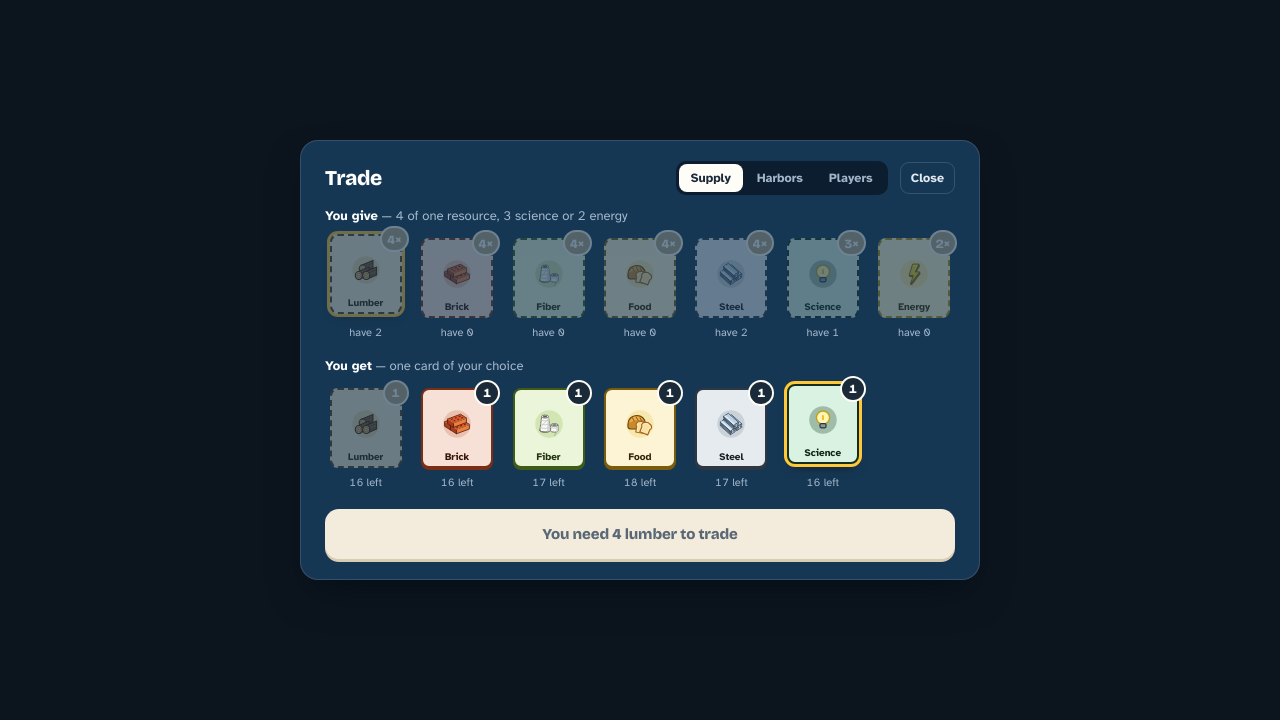
TradeModal offering to several players › starts with everyone, in the order their turns come after yours
The width and height of the screenshot is (1280, 720).
Click the tab "Players".
click(851, 178)  # box [817,164,885,192]
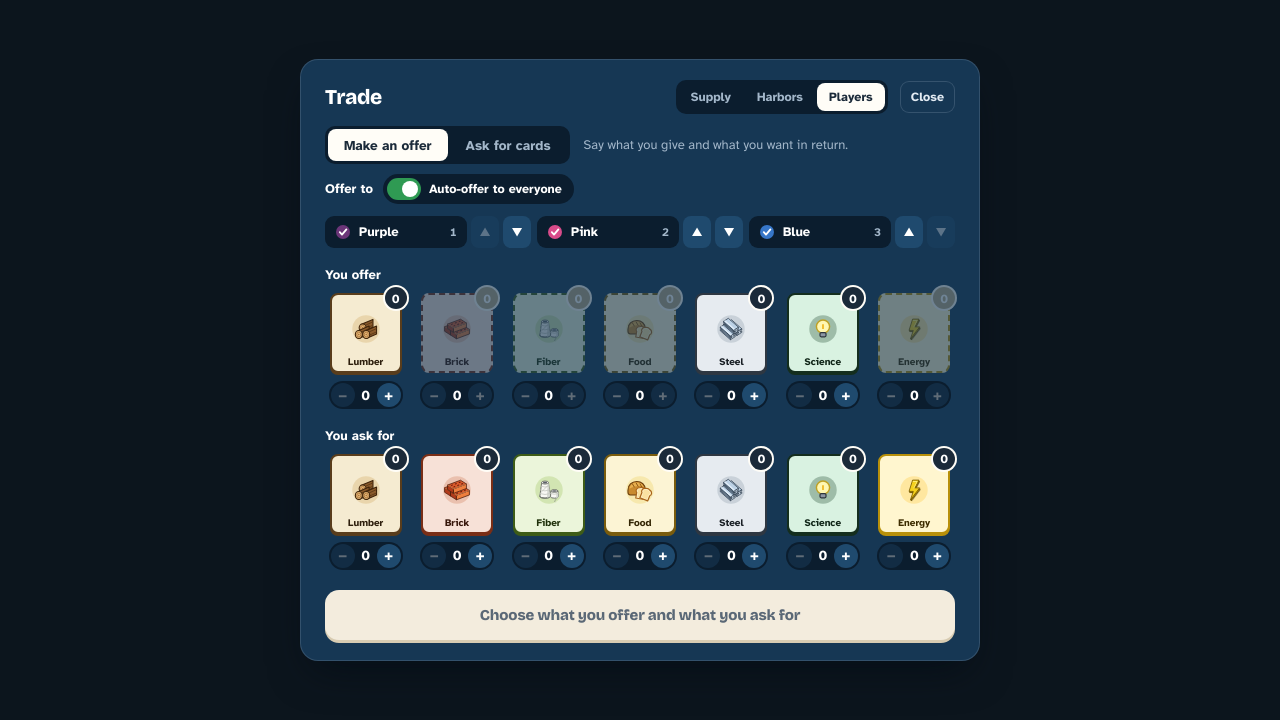
Click the 1st button "Steel 0".
click(731, 333)  # box [695,293,767,373]
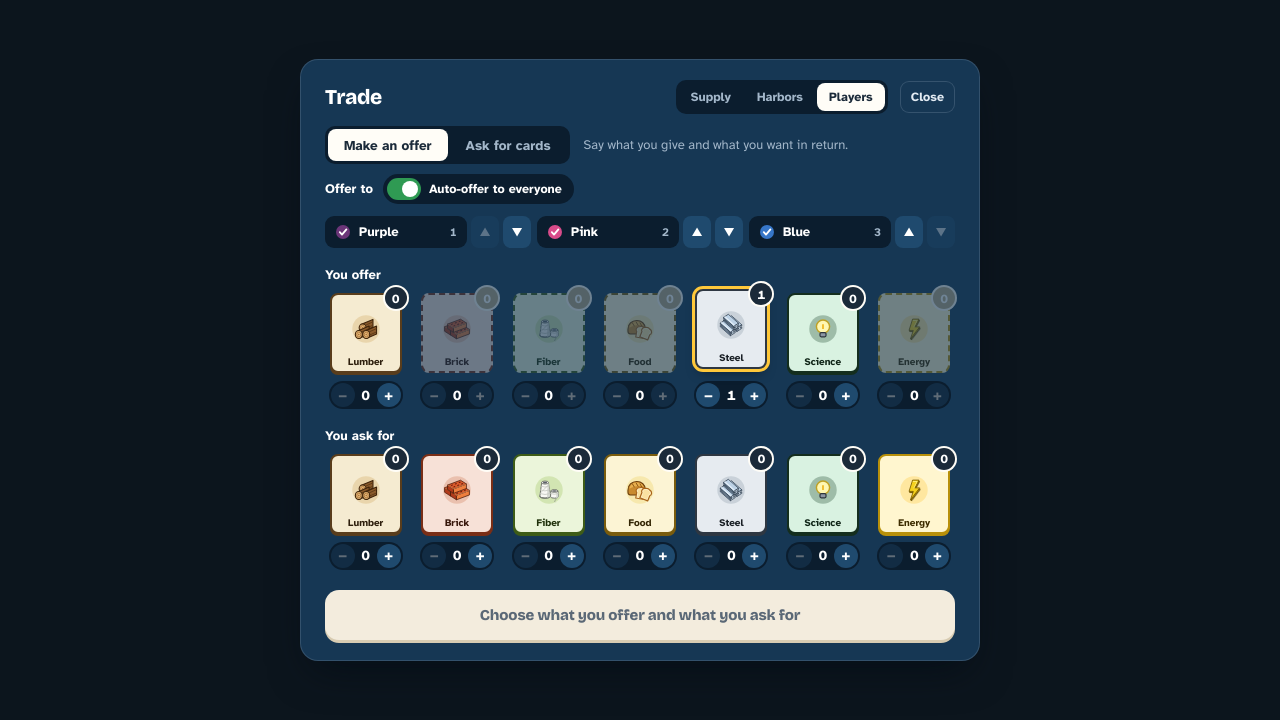
Click the 2nd button "Food 0".
click(640, 494)  # box [604,454,676,534]
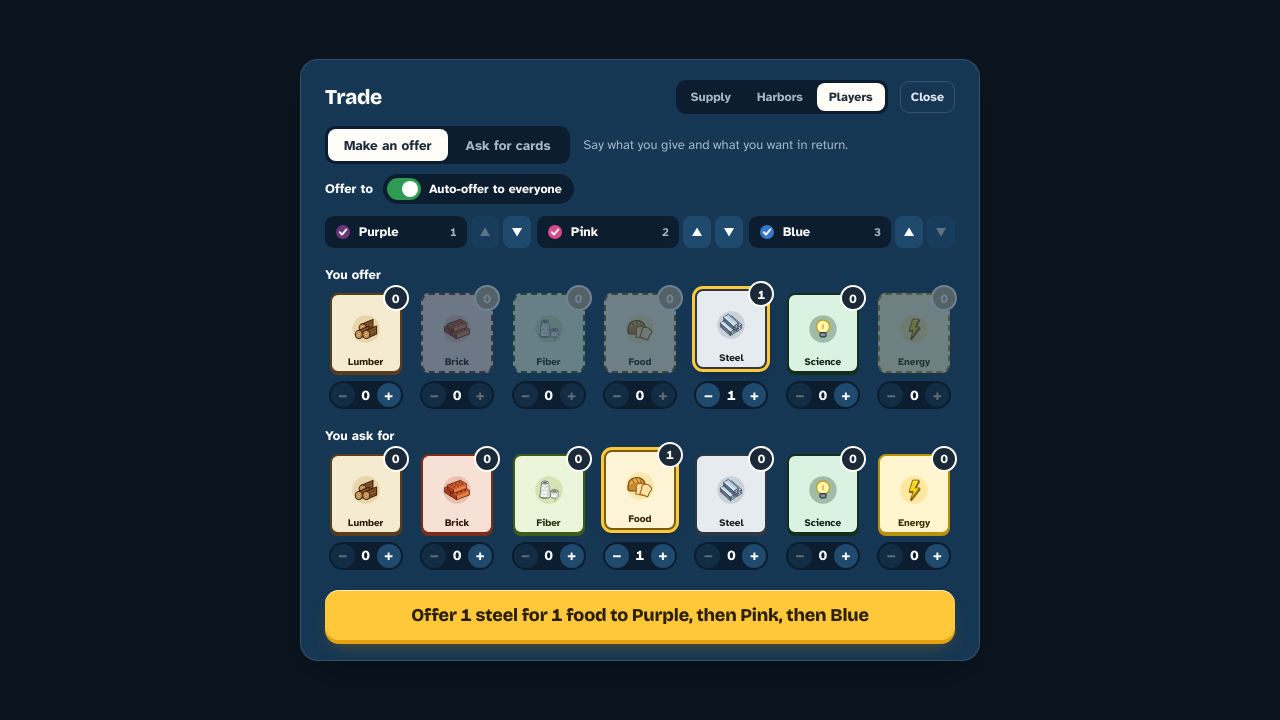
Result: the button with test id "send-domestic-offer-btn" reads "Offer 1 steel for 1 food to Purple, then Pink, then Blue" at [325,590,955,640]
